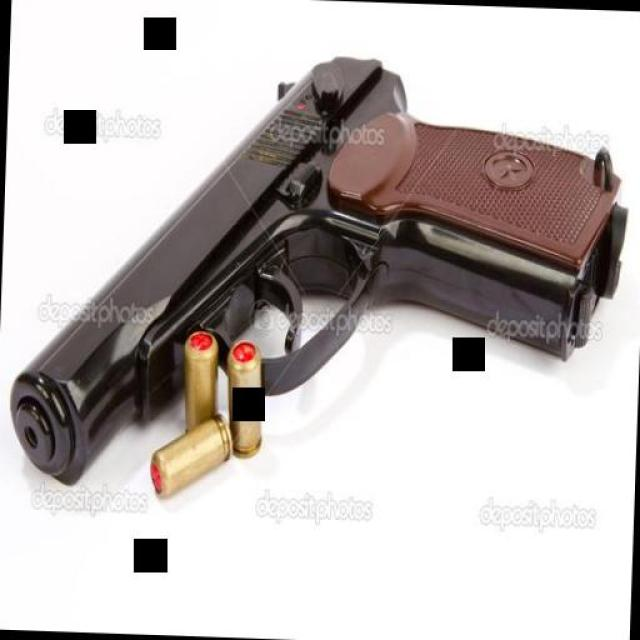gun: (5, 35, 623, 525)
